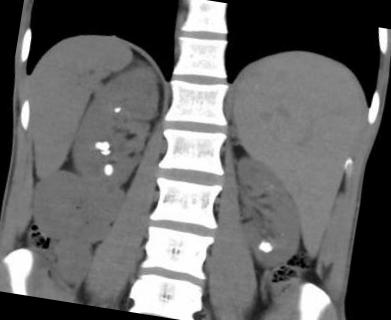Tas_Var: (254, 235, 276, 258), (101, 161, 115, 177), (93, 138, 111, 150), (111, 102, 122, 116), (266, 182, 276, 192), (278, 230, 286, 240), (99, 150, 105, 155), (105, 150, 110, 154)
